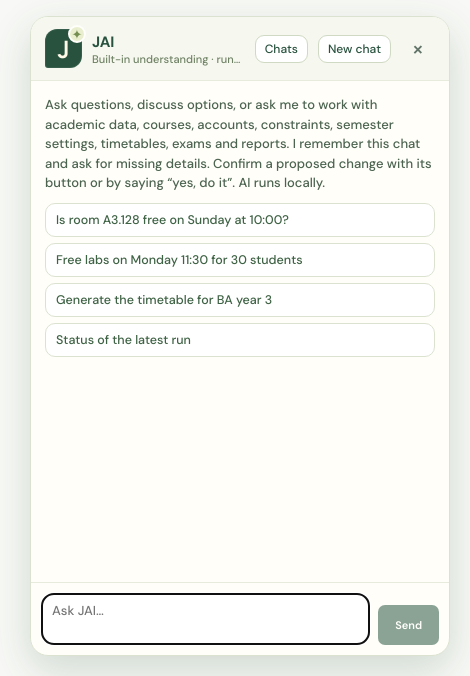
it: a typed constraint is added and approved through the constraints endpoints after confirming
Type "Dr. Sara can't teach Sunday before 10:30" into the text box named "Message to JAI".
click(206, 619); type("Dr. Sara can't teach Sunday before 10:30")  # box 41,593 -> 370,645
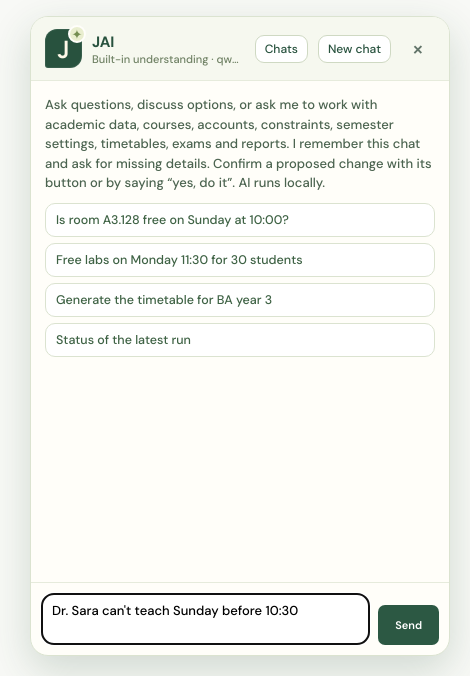
Click the button "Send".
click(409, 625)  # box 378,605 -> 439,645
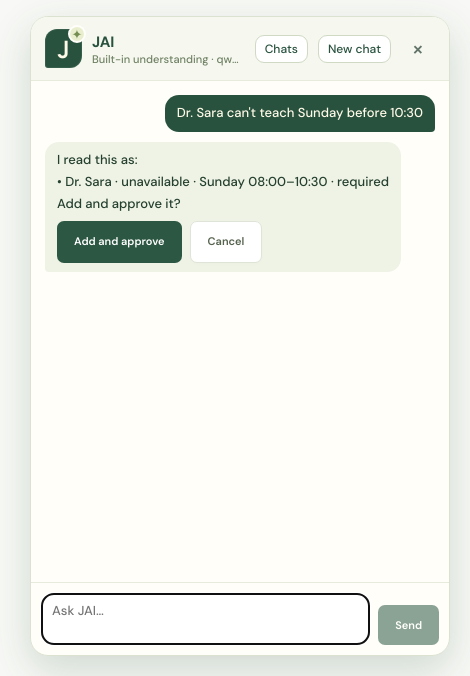
Click the button "Add and approve".
click(119, 242)  # box 57,221 -> 182,263
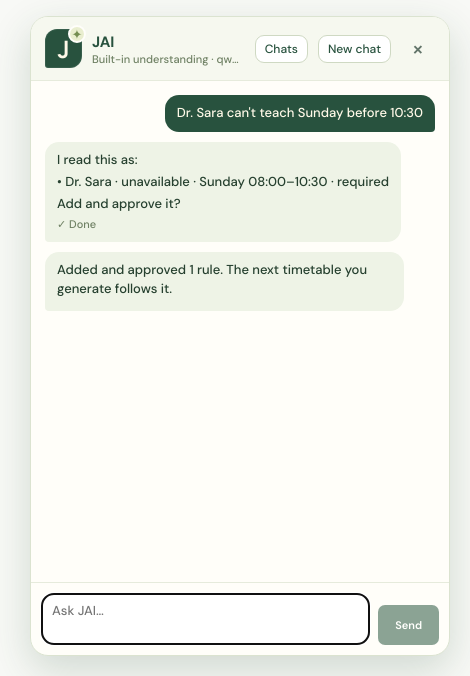
expect the text "Added and approved 1 rule" is shown: met, box 57,261 -> 370,297
